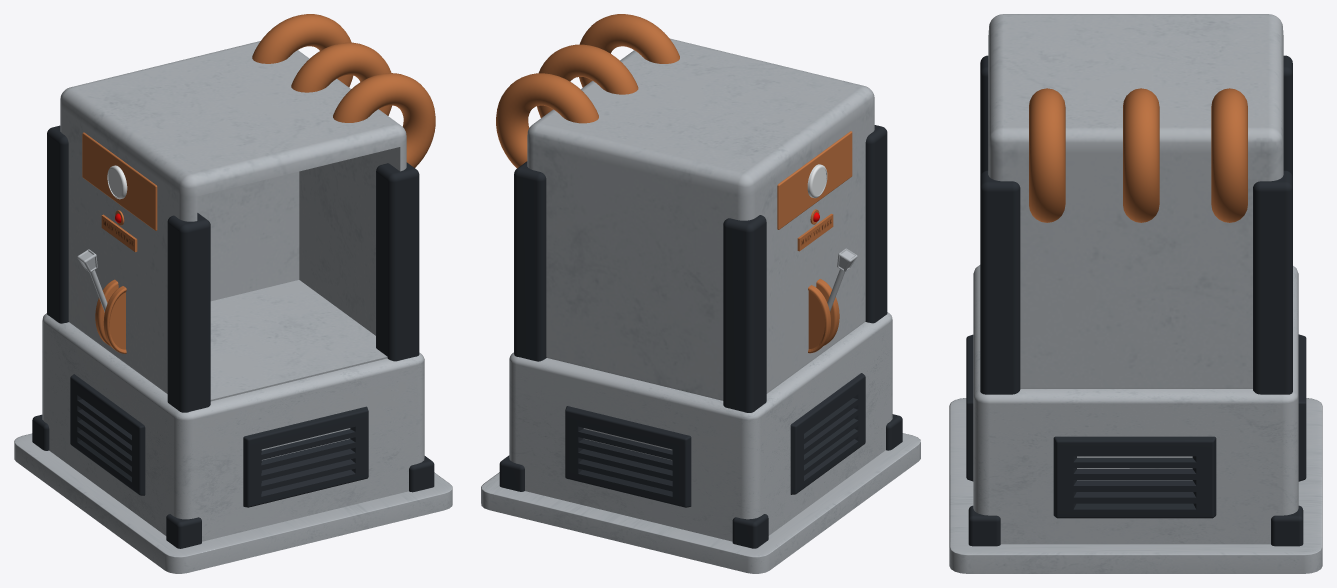
The model's file is quantum-adapter.obj.
3 renders of one model, left to right at view 1: azimuth 30°, elevation 25°; view 2: azimuth 150°, elevation 25°; view 3: azimuth 270°, elevation 25°, orthographic. The views are drawn at different scales.
Parts seen in each view (by area): view 1: GatewayBody; view 2: GatewayBody; view 3: GatewayBody.
Part boxes in pixels (left/top/right/bottom): GatewayBody: left=14, top=14, right=452, bottom=573; GatewayBody: left=481, top=14, right=920, bottom=573; GatewayBody: left=949, top=14, right=1322, bottom=573.
Bounding box in the file's own units: 1.74 × 2.16 × 1.58.
19 materials, 18 textured.
